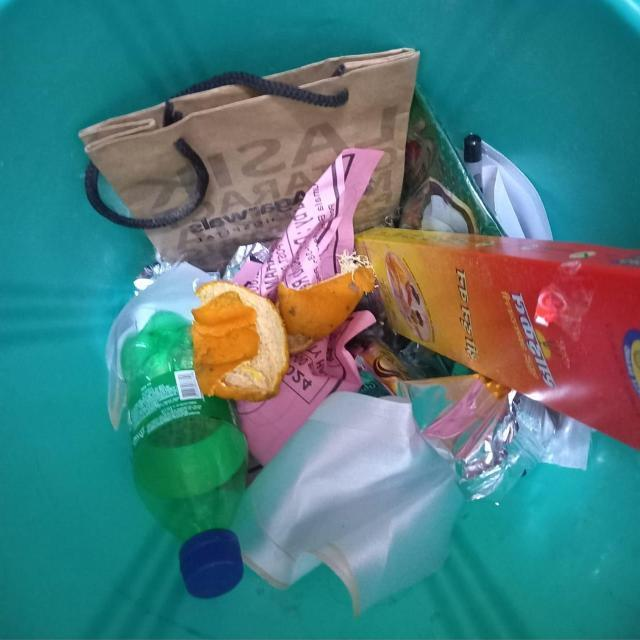Garbage: (81, 49, 640, 615)
Nylog_sting: (84, 139, 209, 229), (174, 72, 349, 108)
Plastic: (232, 392, 464, 616), (398, 375, 592, 499), (106, 262, 217, 428)
Plastic_bottle: (120, 310, 248, 598)
Plastic_wraper: (399, 89, 503, 235)
